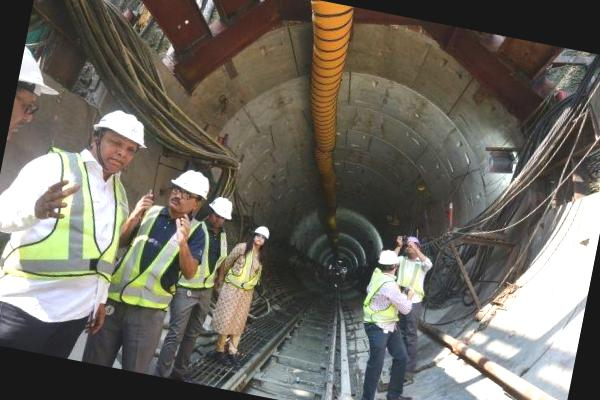helmet: (87, 101, 154, 156), (168, 162, 215, 204), (204, 193, 238, 222), (250, 219, 275, 244), (376, 248, 402, 267)
person: (0, 95, 146, 364), (101, 158, 217, 380), (339, 245, 424, 400), (206, 217, 276, 370)
